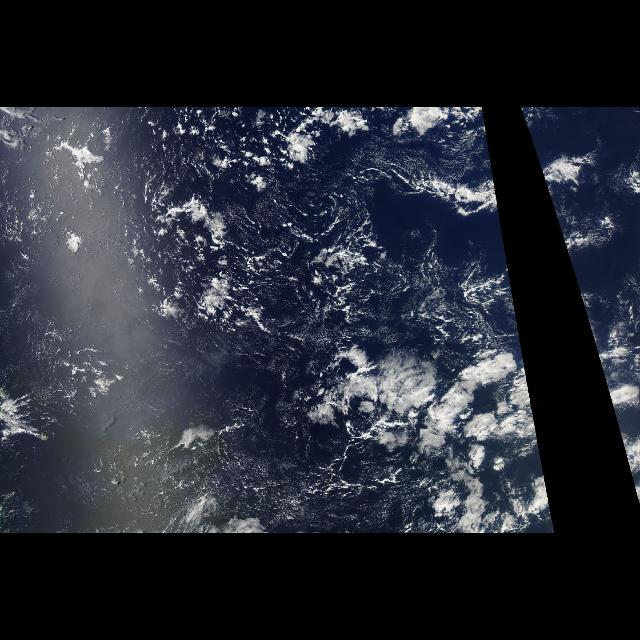Flower: (292, 340, 556, 532), (592, 340, 640, 514)
Gravel: (22, 107, 402, 333)
Sugar: (85, 431, 348, 533), (4, 215, 128, 421), (215, 163, 411, 269)
